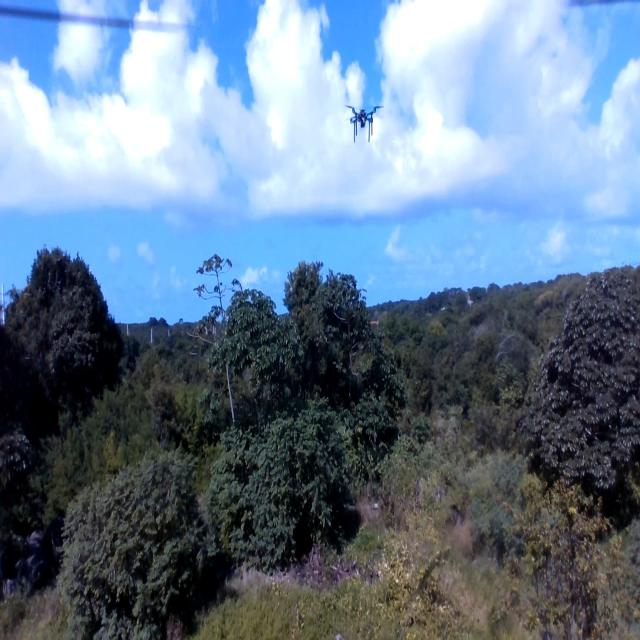-uav-: (345, 89, 384, 155)
